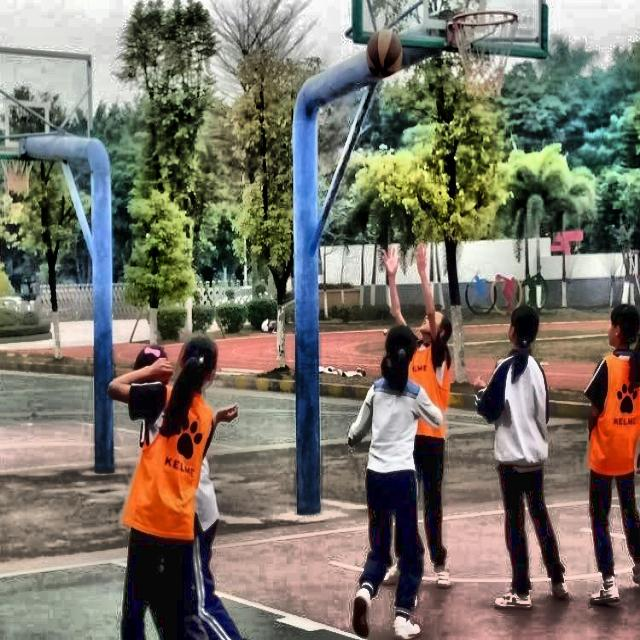board: (365, 30, 402, 76)
